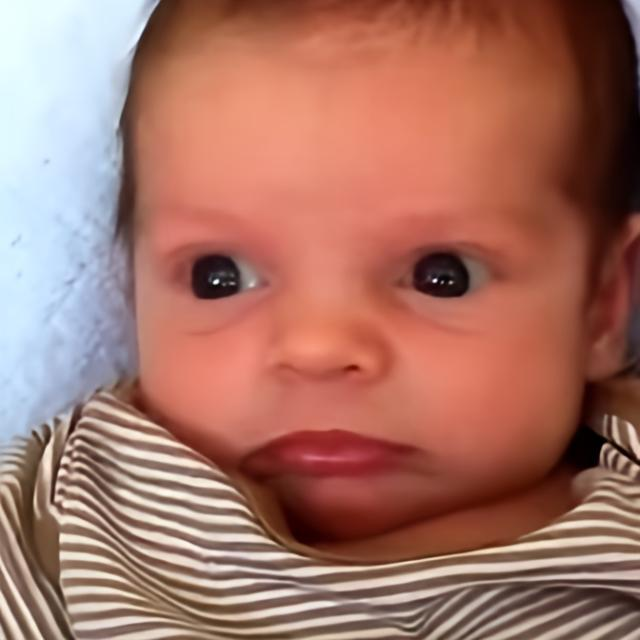surprise: (132, 0, 588, 542)
